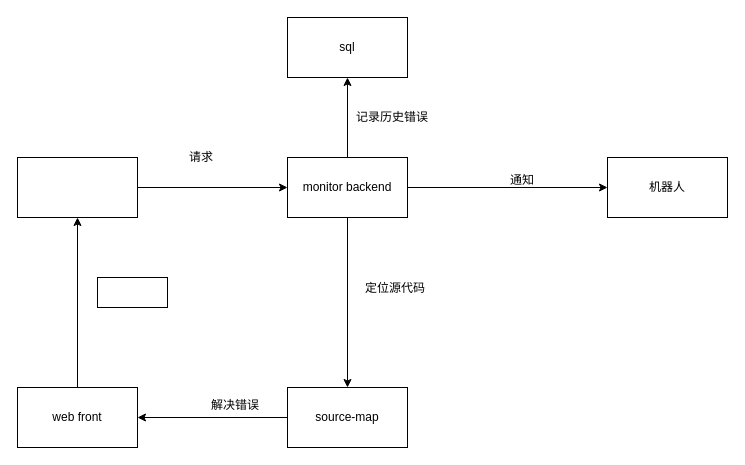
The diagram is 745 pixels wide and 465 high, and some of its shapes have lost their labels. Here are the shapes that lost their labels. From the top down, the box of each, then its label:
(16, 156, 138, 218): monitor sdk
(96, 276, 168, 308): 引用
